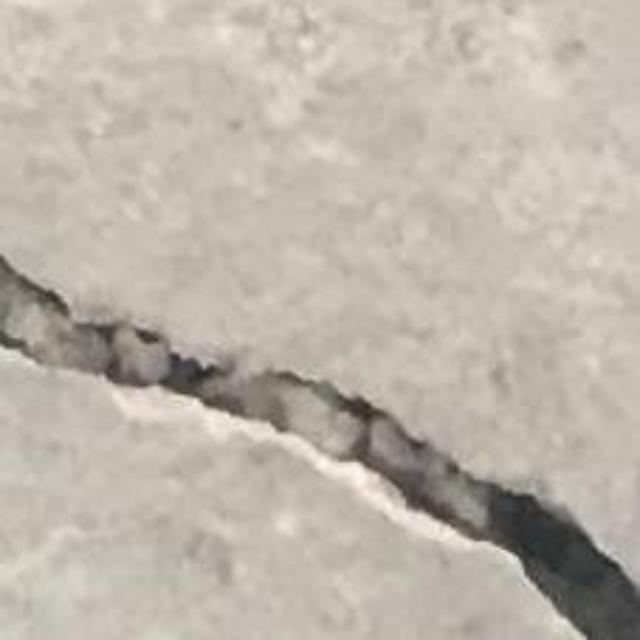crack: (0, 257, 639, 639)
